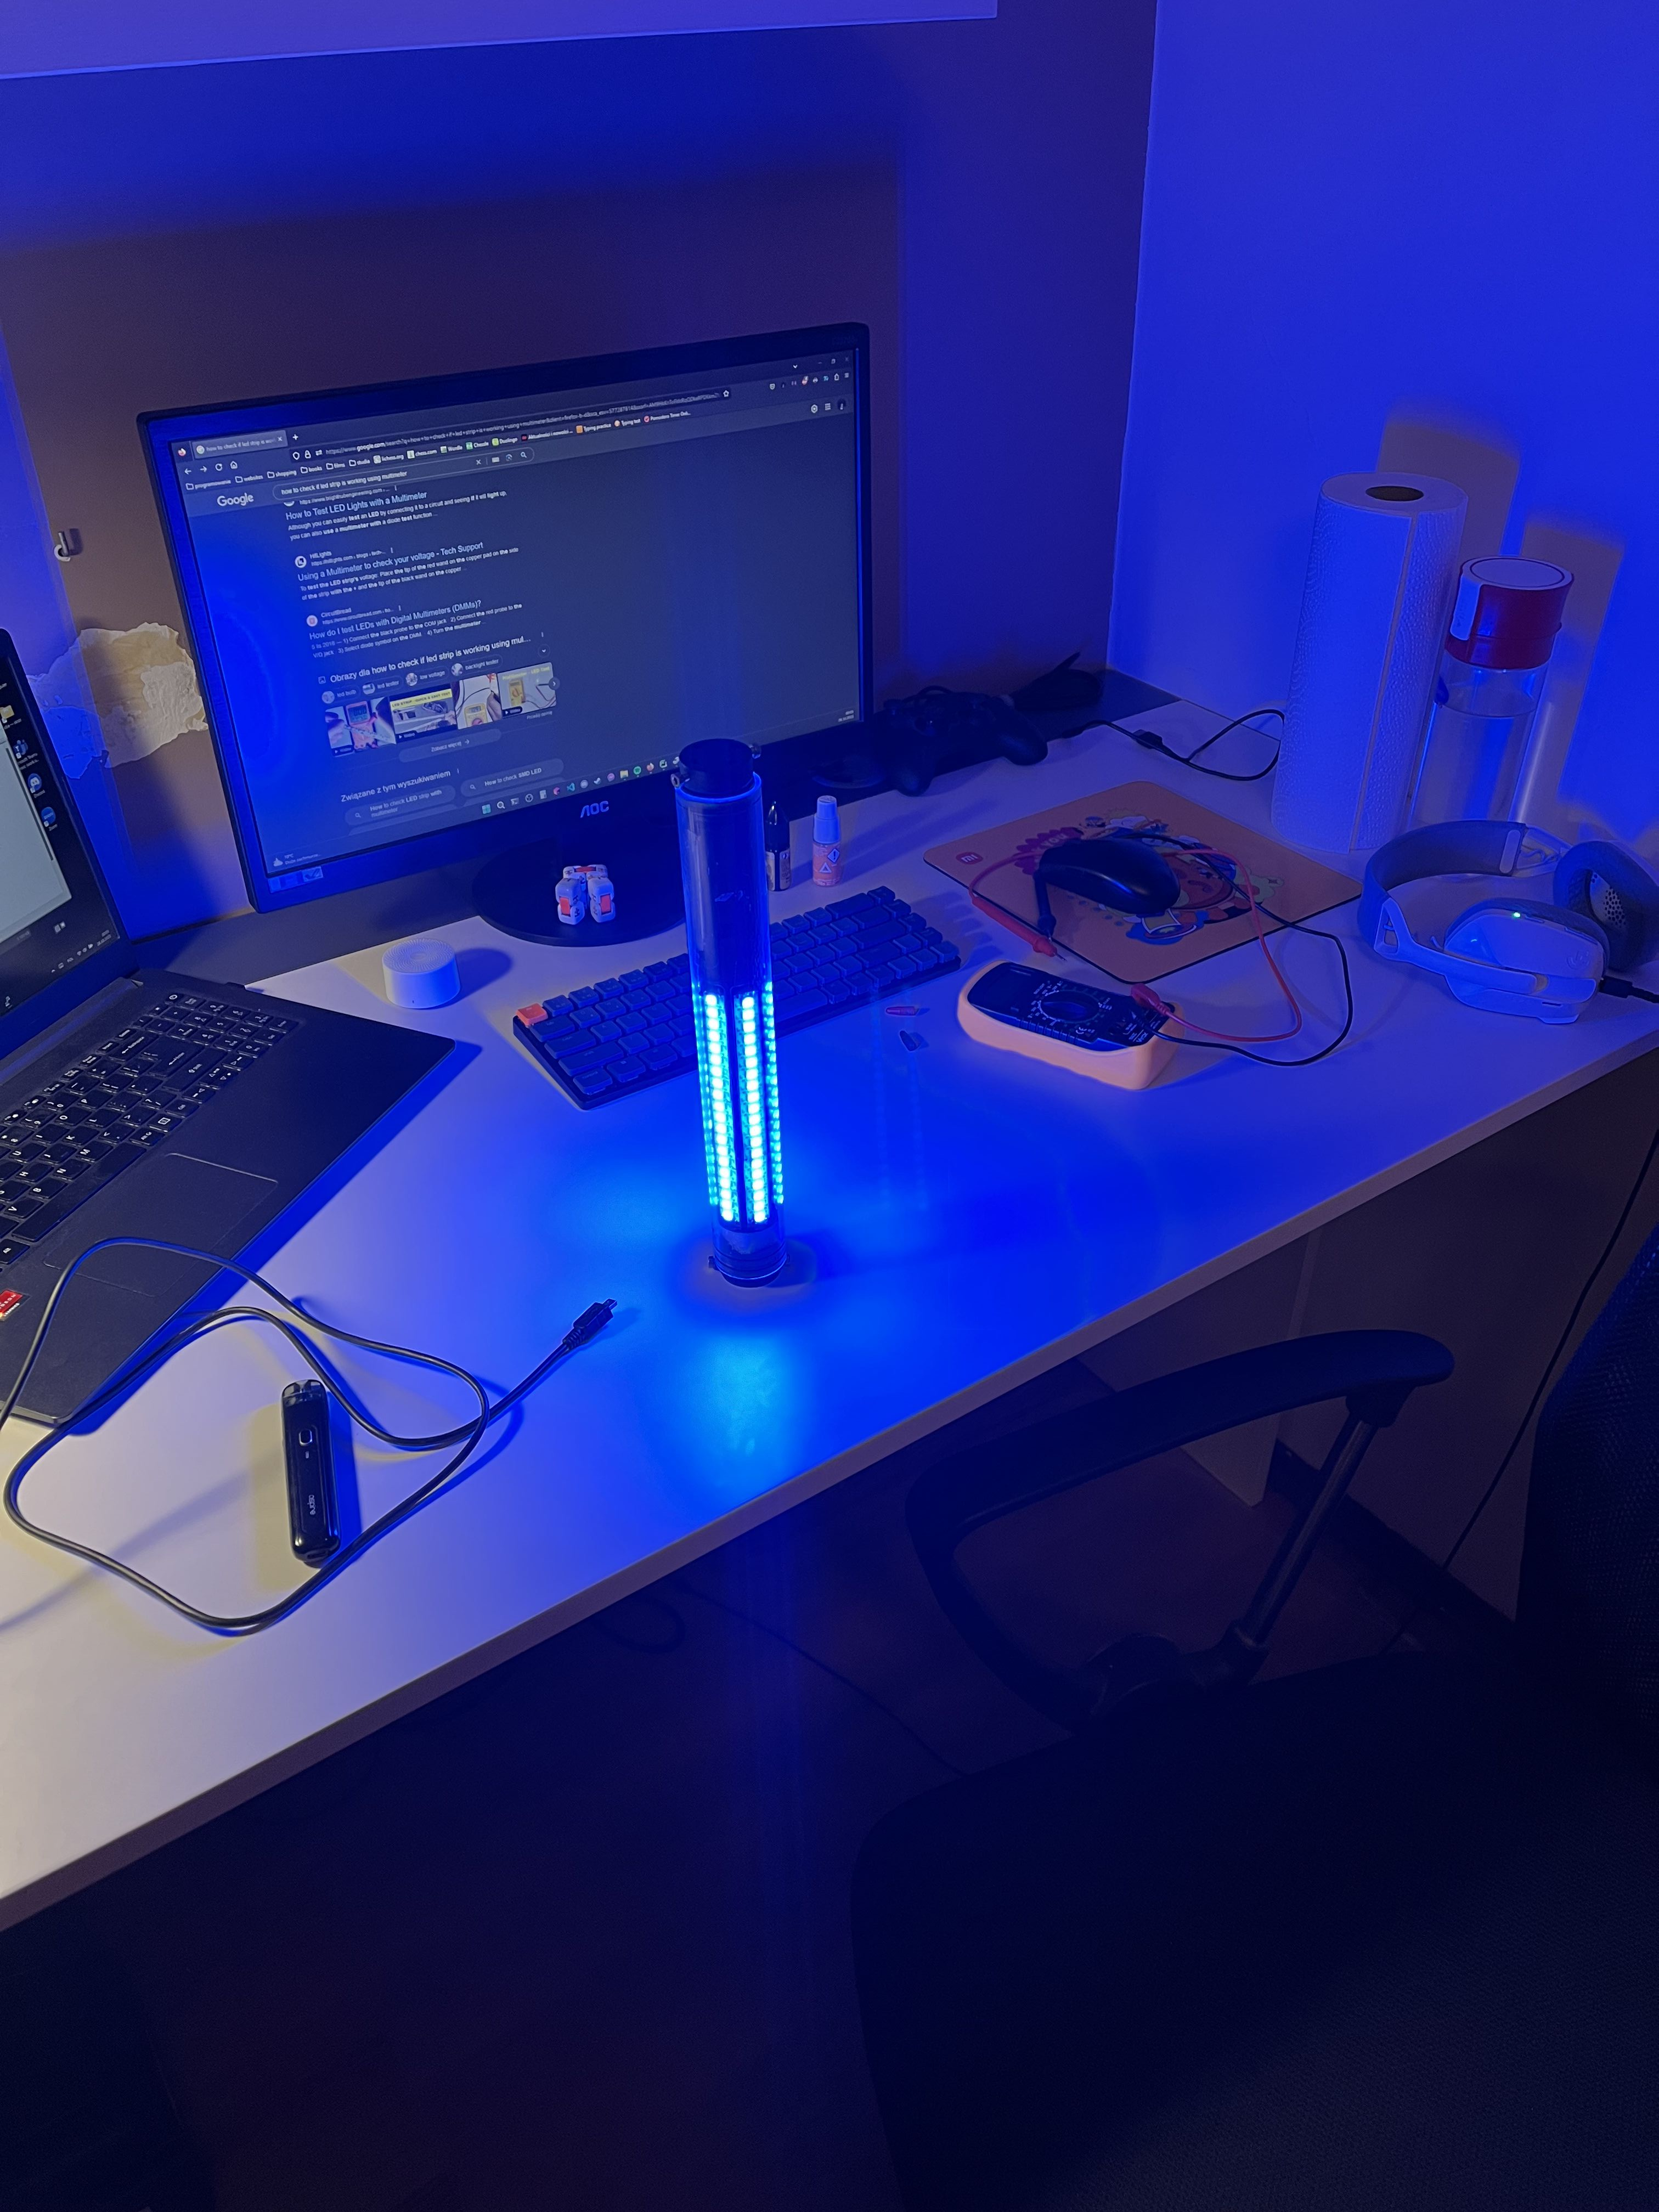blue: (680, 787, 791, 1287)
